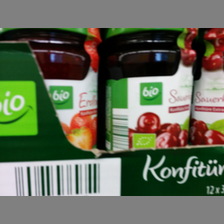jam: (1, 29, 100, 150), (104, 29, 200, 150)
